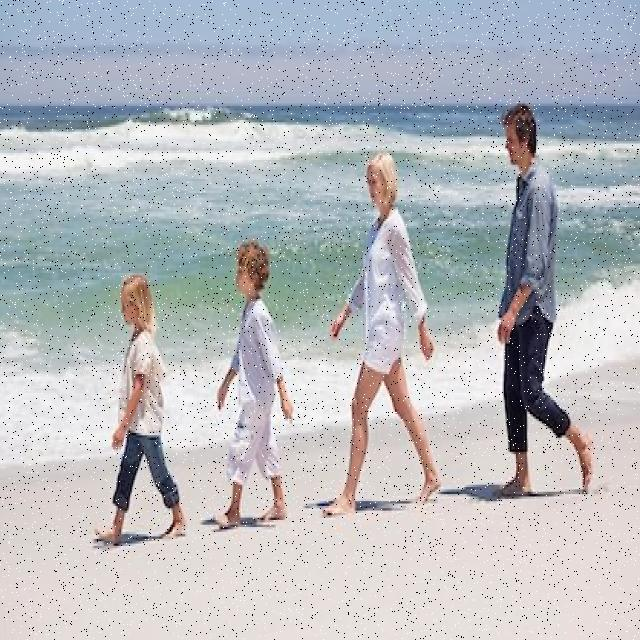Person: (323, 152, 443, 518), (492, 105, 598, 498), (94, 276, 186, 542), (213, 241, 295, 528)
